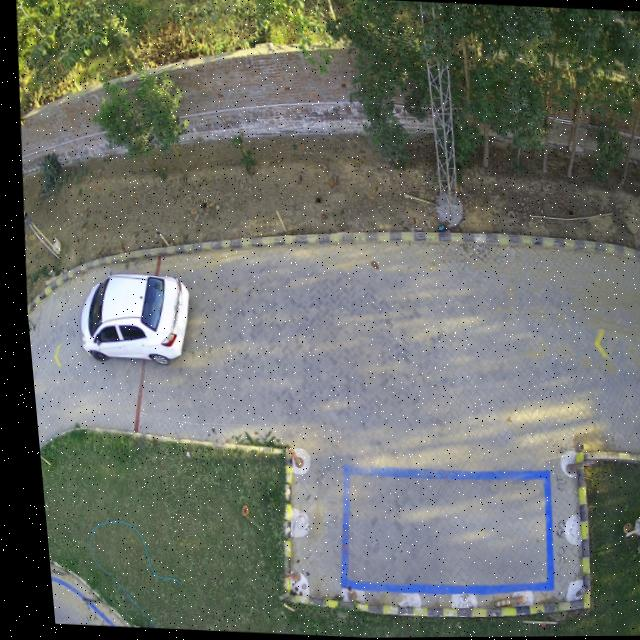car: (74, 266, 183, 366)
